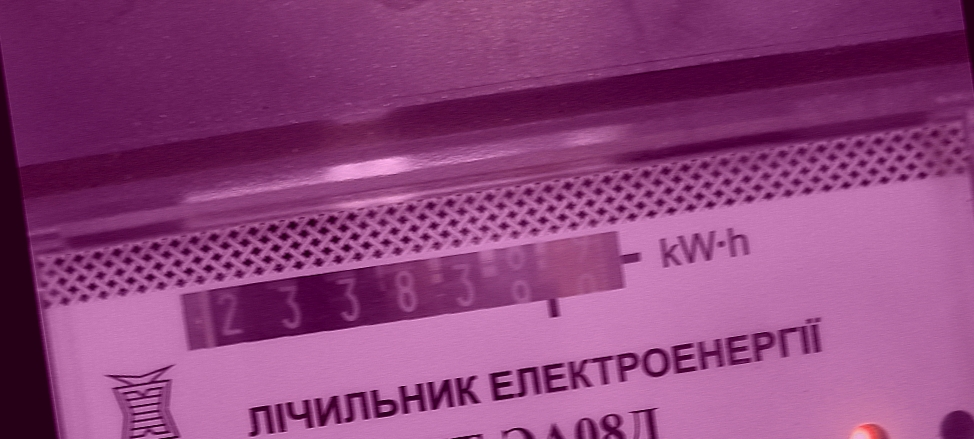0: (572, 266, 601, 294)
2: (212, 285, 247, 338)
3: (273, 278, 307, 331), (333, 271, 365, 325), (448, 256, 480, 308)
8: (390, 264, 421, 313), (501, 241, 532, 272)
9: (505, 272, 536, 305), (567, 231, 595, 263)
screen: (166, 213, 647, 374)
